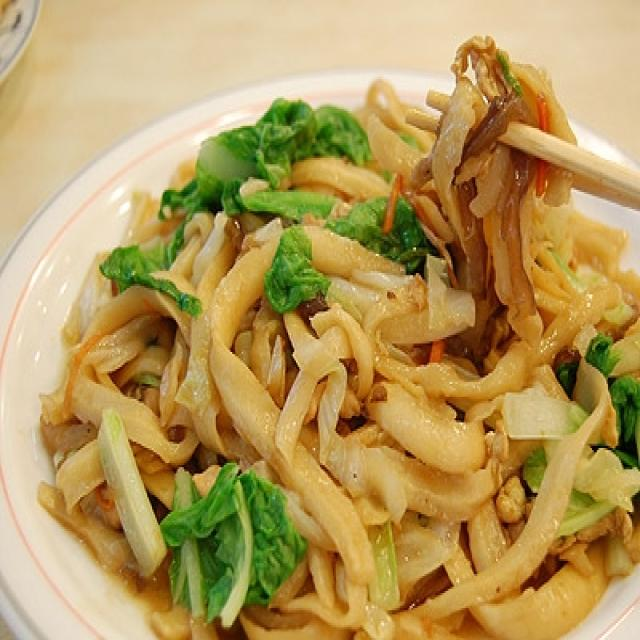面条主食: (45, 75, 632, 629)
